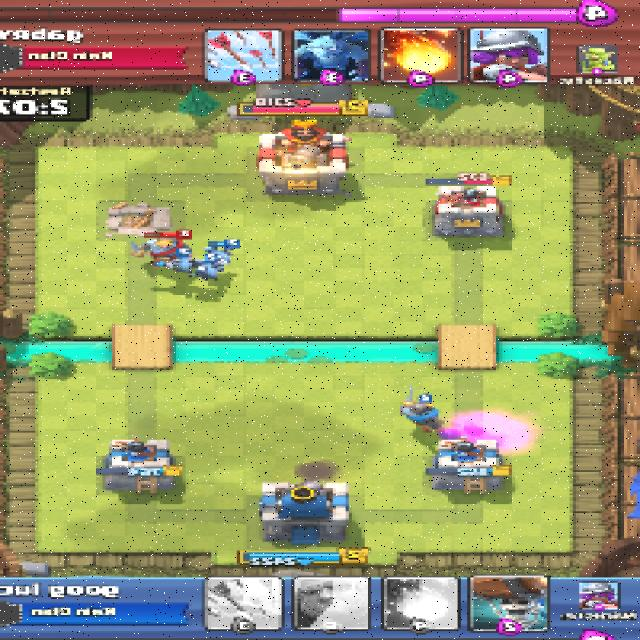Enemy-Knight: (130, 236, 201, 268)
Player-Knight: (399, 398, 446, 431)
Player-Minion: (194, 261, 225, 281), (166, 255, 198, 273), (209, 246, 235, 264)
